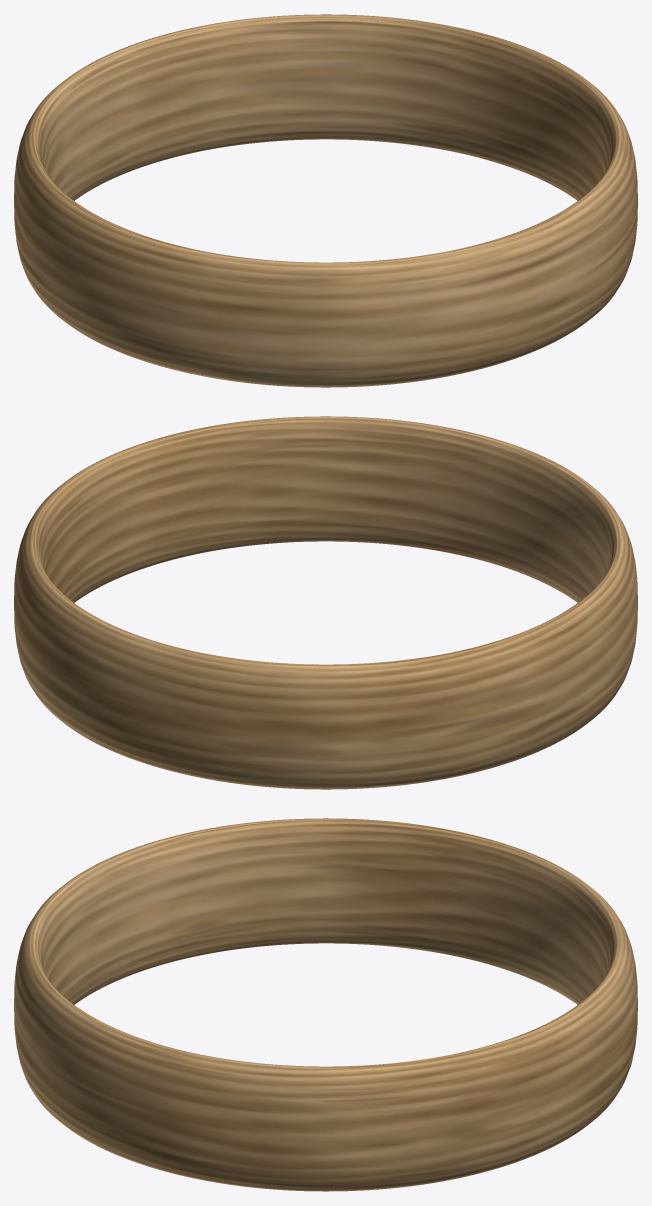
File: dab.glb
The picture shows the model from 3 angles, top to bottom: view 1: azimuth 30°, elevation 25°; view 2: azimuth 150°, elevation 25°; view 3: azimuth 270°, elevation 25°; orthographic projection.
Visible parts, largest first — view 1: obrecz.002; view 2: obrecz.002; view 3: obrecz.002.
Boxes of the visible parts, x1=… form: obrecz.002: x1=14, y1=14, x2=637, y2=387; obrecz.002: x1=14, y1=416, x2=637, y2=789; obrecz.002: x1=14, y1=818, x2=637, y2=1191.
Size of the model in its own units: 6.82 by 1.5 by 6.82.
1 material, 1 textured.
